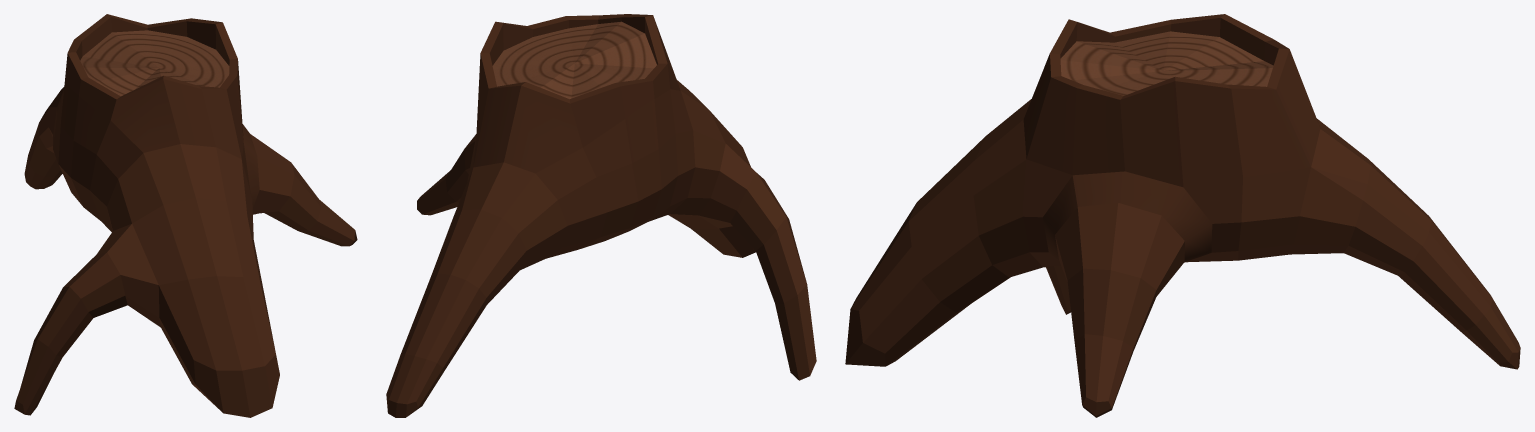
Rendered from Stump_3.FBX.
3 views of the same model, side by side, from view 1: azimuth 30°, elevation 25°; view 2: azimuth 150°, elevation 25°; view 3: azimuth 270°, elevation 25° (orthographic). The views are drawn at different scales.
Visible parts, largest first — view 1: Stump_3; view 2: Stump_3; view 3: Stump_3.
Part boxes in pixels (x1,y1,x2,y2): Stump_3: (14, 14, 357, 417); Stump_3: (386, 14, 816, 417); Stump_3: (845, 14, 1520, 417).
Size of the model in its own units: 219 by 179 by 290.
